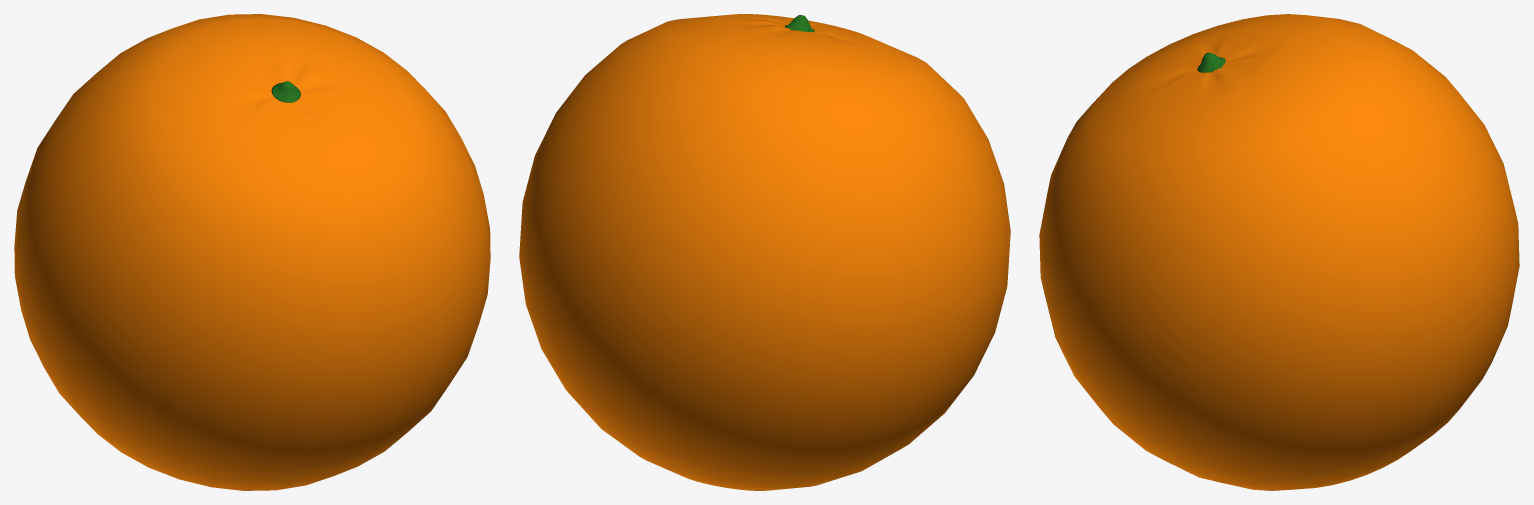
File: tamagotchi_orange.fbx
The picture shows the model from 3 angles, left to right: view 1: azimuth 30°, elevation 25°; view 2: azimuth 150°, elevation 25°; view 3: azimuth 270°, elevation 25°; orthographic projection. The views are drawn at different scales.
Parts seen in each view (by area): view 1: Sphere; view 2: Sphere; view 3: Sphere.
Part boxes in pixels (bbox=[...]): Sphere: bbox=[14, 14, 490, 490]; Sphere: bbox=[519, 14, 1010, 490]; Sphere: bbox=[1039, 14, 1519, 490].
Bounding box in the file's own units: 200 × 194 × 199.
